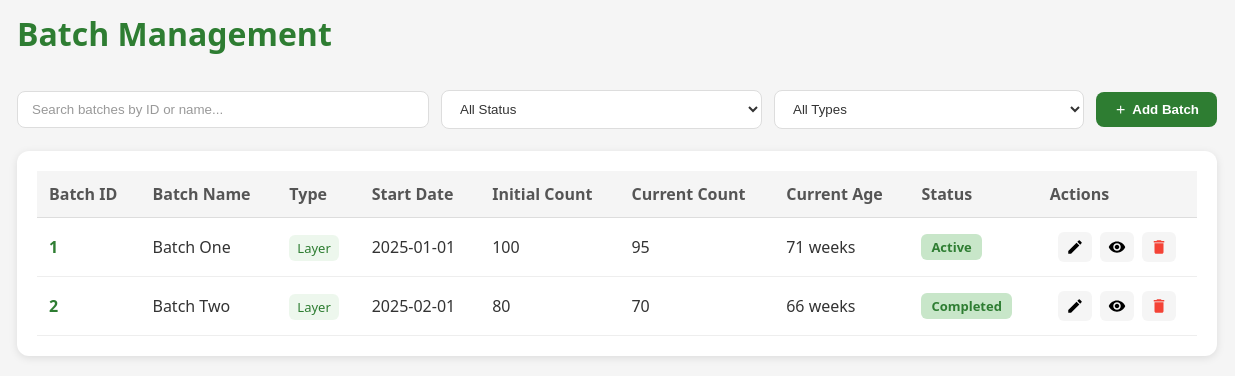
Scenario: BatchManagement Component › search filters batches
The width and height of the screenshot is (1235, 376).
Expected: the text "Batch One" is shown, [140,218,277,276]
In the field with placeholder "Search batches by ID or name...": (223, 110) [17,91,429,128], type "Two"
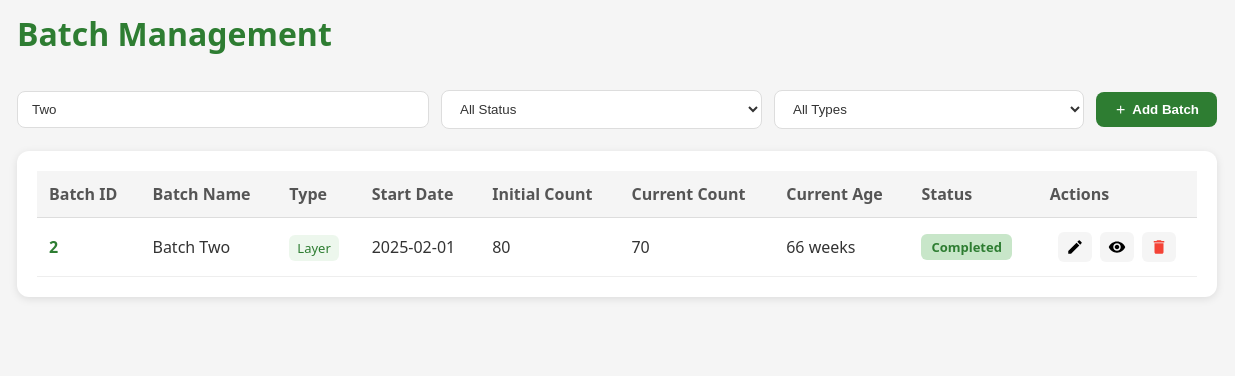
Expected: the text "Batch Two" is shown, [140,218,277,276]
Now the text "Batch One" is gone
